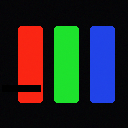3 line_h: (2, 85, 40, 91)
